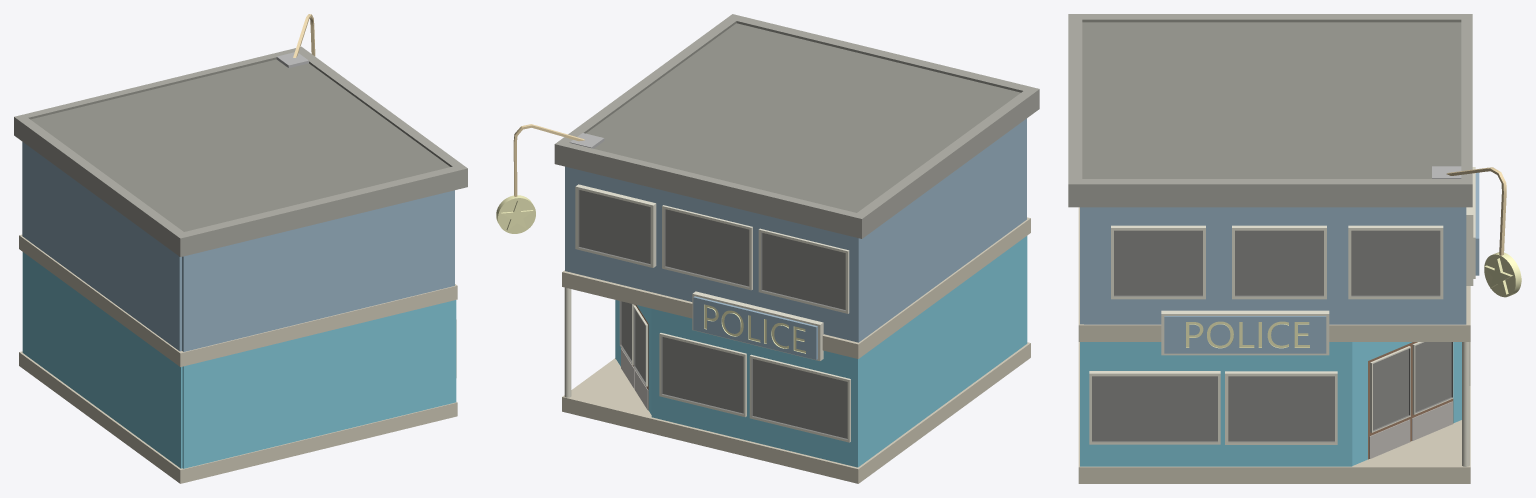
Rendered from house21.fbx.
3 renders of one model, left to right at view 1: azimuth 30°, elevation 25°; view 2: azimuth 150°, elevation 25°; view 3: azimuth 270°, elevation 25°, orthographic. The views are drawn at different scales.
Parts seen in each view (by area): view 1: Extrude_1; view 2: Extrude_1; view 3: Extrude_1.
Part boxes in pixels (box(x1,y1,x2,y2)): Extrude_1: box(14, 14, 467, 483); Extrude_1: box(496, 14, 1039, 483); Extrude_1: box(1068, 14, 1521, 483).
Bounding box in the file's own units: 1295 × 1029 × 1289.
